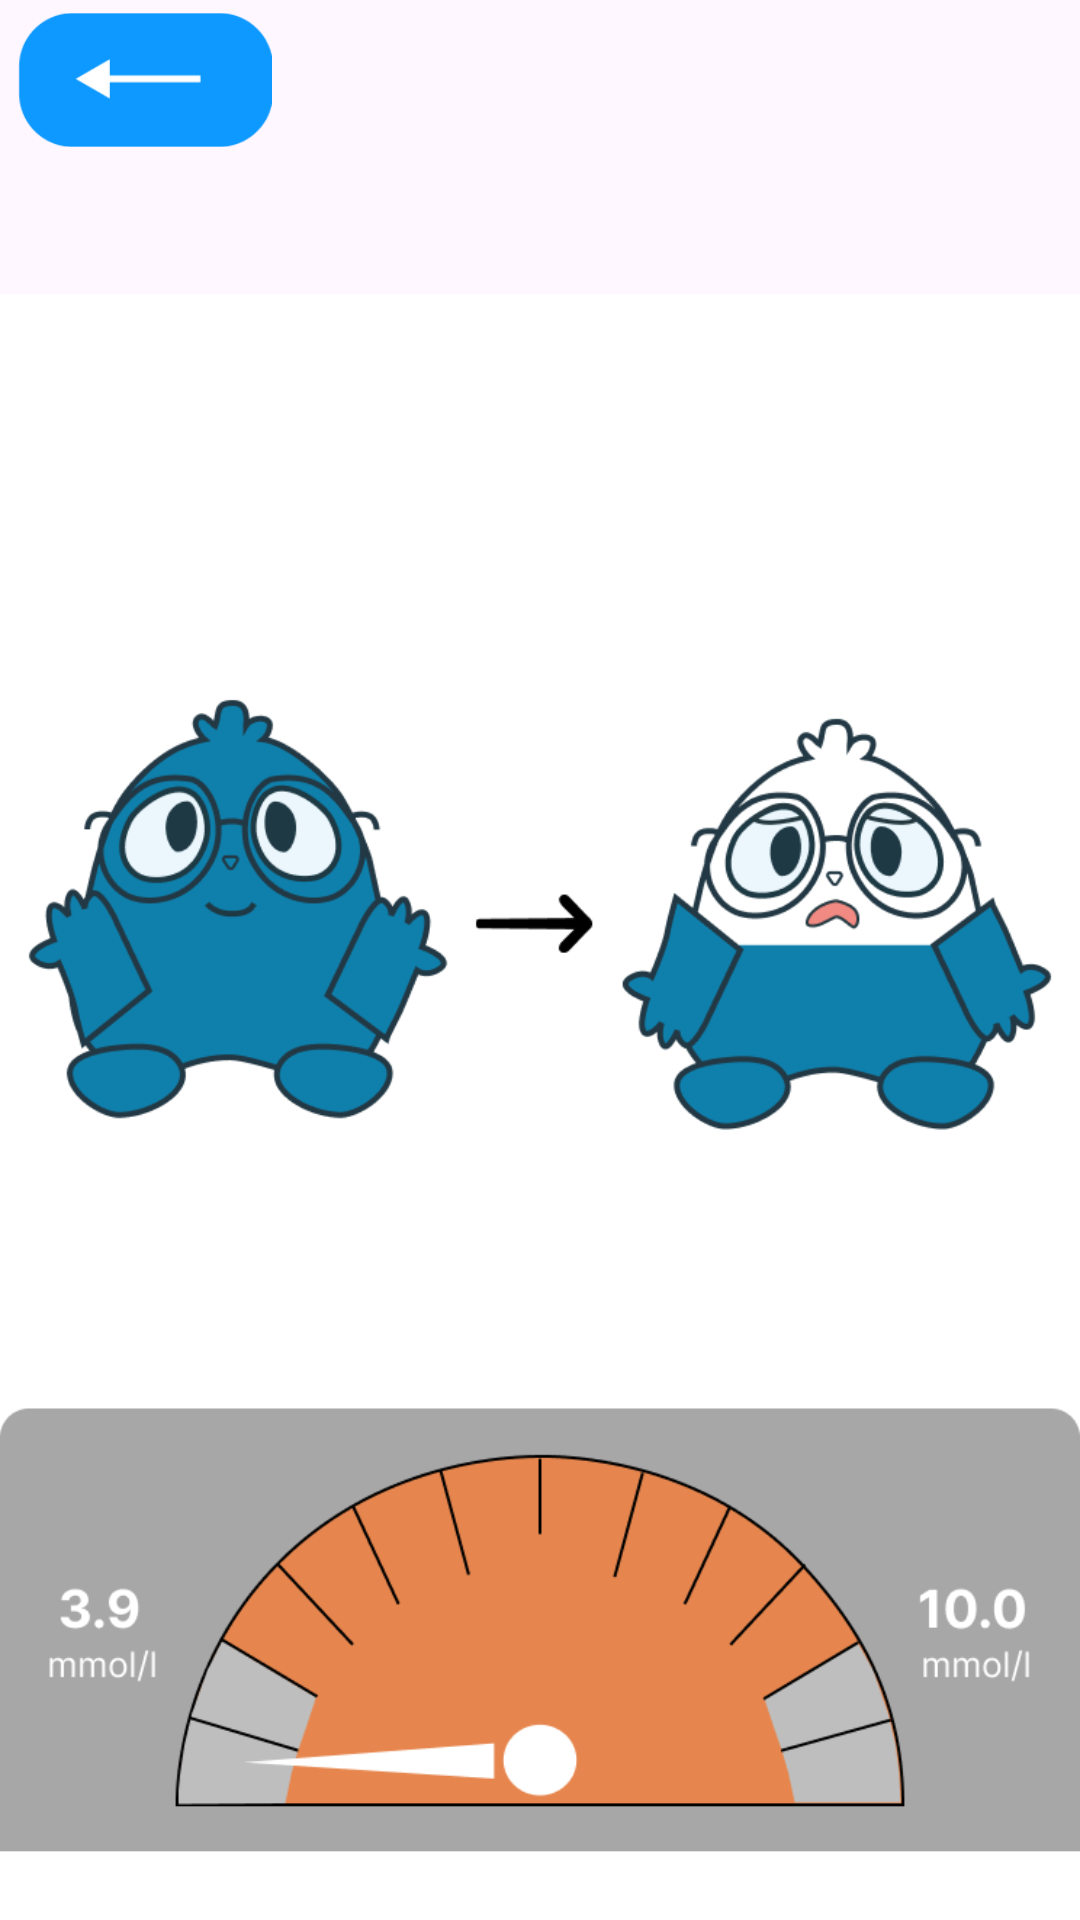

Where to tap for icons on this 1080×1920 app screen, as [x,y]:
back: [145,80]
